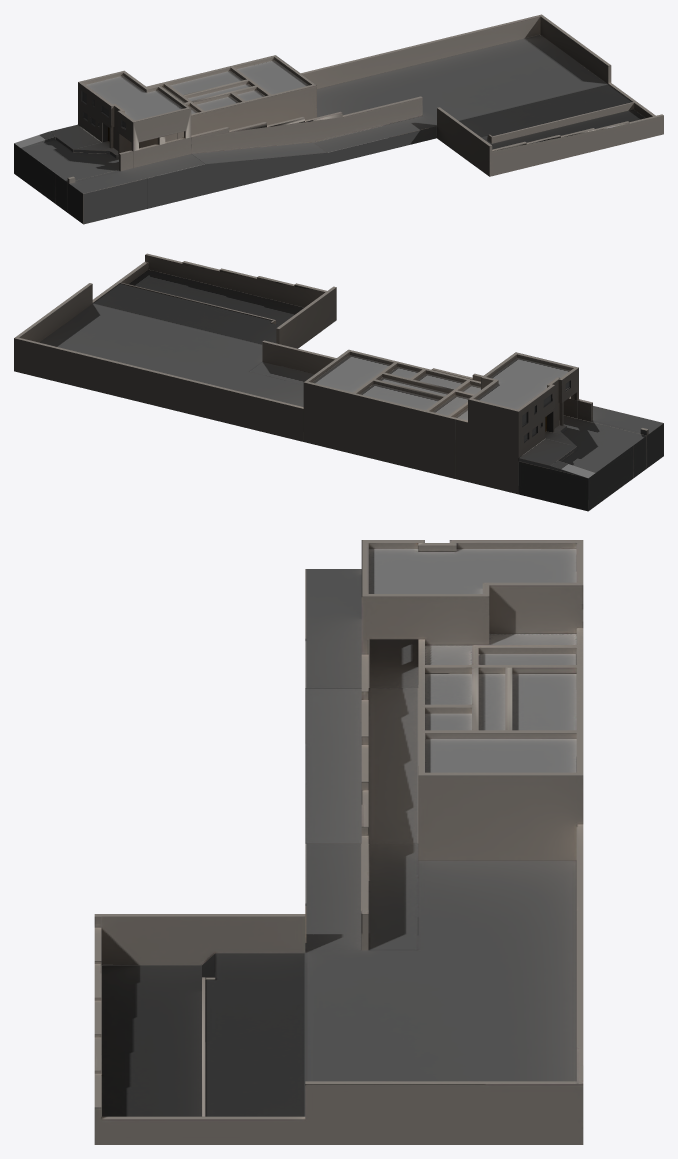
File: RAHM_v8.glb
The picture shows the model from 3 angles, top to bottom: view 1: azimuth 30°, elevation 25°; view 2: azimuth 150°, elevation 25°; view 3: azimuth 270°, elevation 25°; orthographic projection. The views are drawn at different scales.
Visible parts, largest first — view 1: node_0ed6868c_fd64_4ad4_a2b8_9bff01ac2877_mesh0; view 2: node_0ed6868c_fd64_4ad4_a2b8_9bff01ac2877_mesh0; view 3: node_0ed6868c_fd64_4ad4_a2b8_9bff01ac2877_mesh0.
Part boxes in pixels (x1,y1,x2,y2): node_0ed6868c_fd64_4ad4_a2b8_9bff01ac2877_mesh0: [14, 14, 663, 224]; node_0ed6868c_fd64_4ad4_a2b8_9bff01ac2877_mesh0: [14, 253, 663, 511]; node_0ed6868c_fd64_4ad4_a2b8_9bff01ac2877_mesh0: [94, 540, 583, 1144].
Bounding box in the file's own units: 3574 × 492 × 1433.
Materials: 8 (8 with a texture image).
